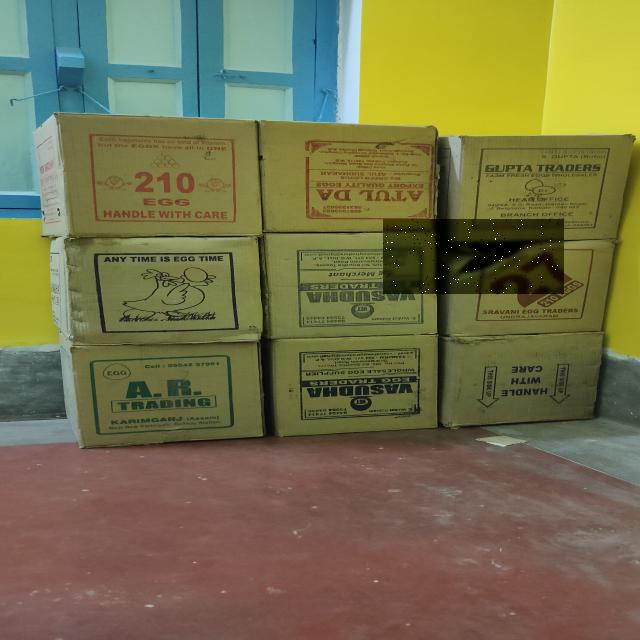squeeze: (383, 220, 563, 293)
